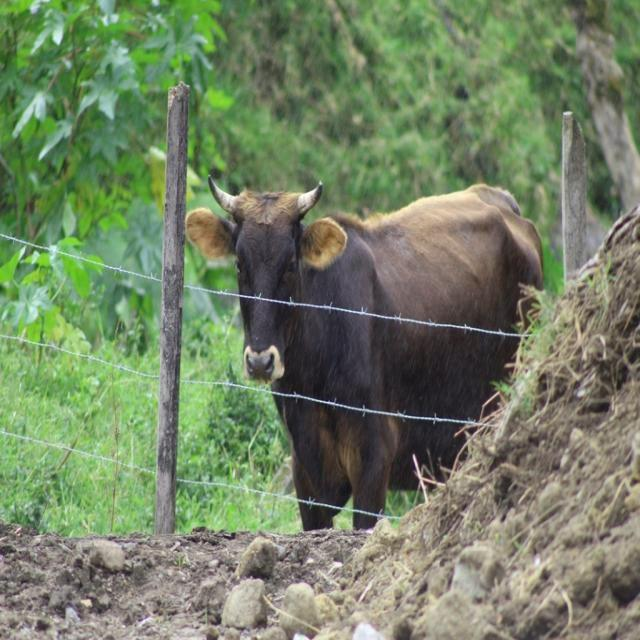cow: (186, 182, 542, 419), (275, 394, 462, 513)
